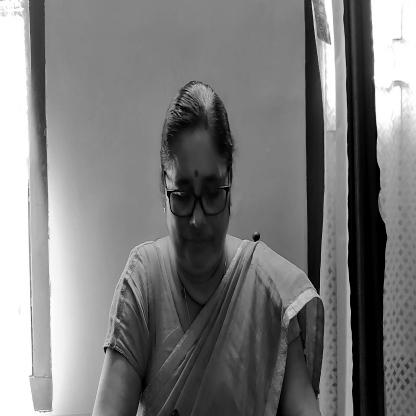Normal: (159, 85, 233, 280)
